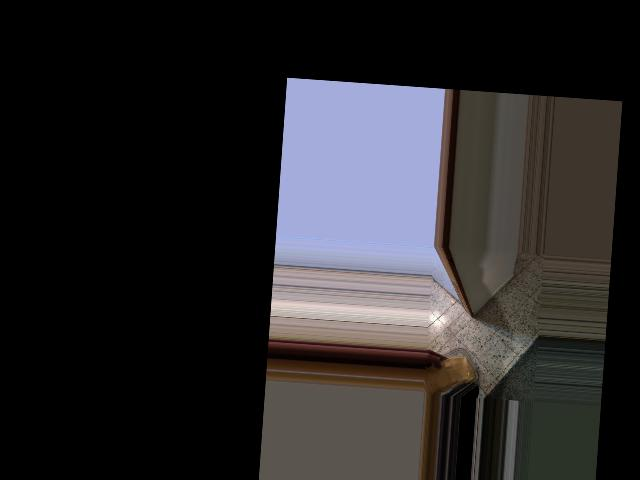cheese: (422, 346, 480, 398)
